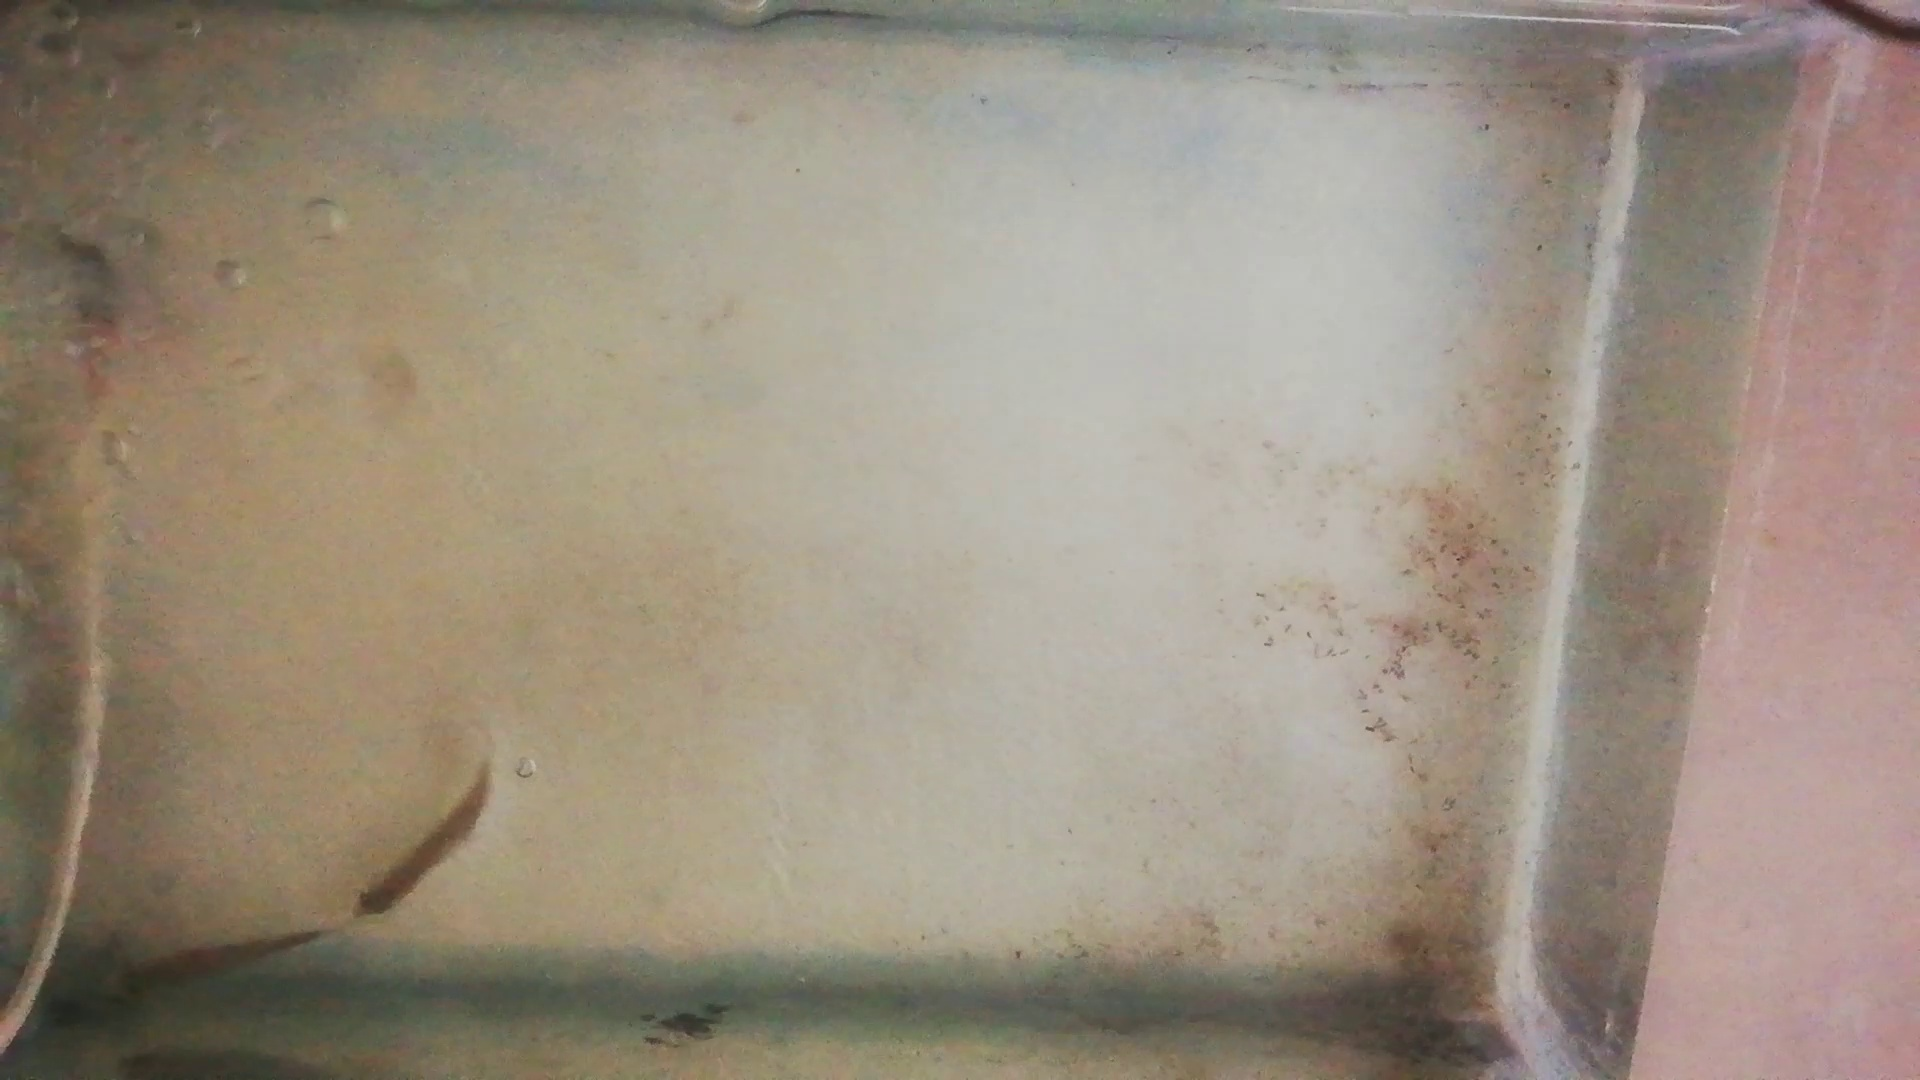fish: (353, 766, 496, 915), (120, 930, 322, 1000)
